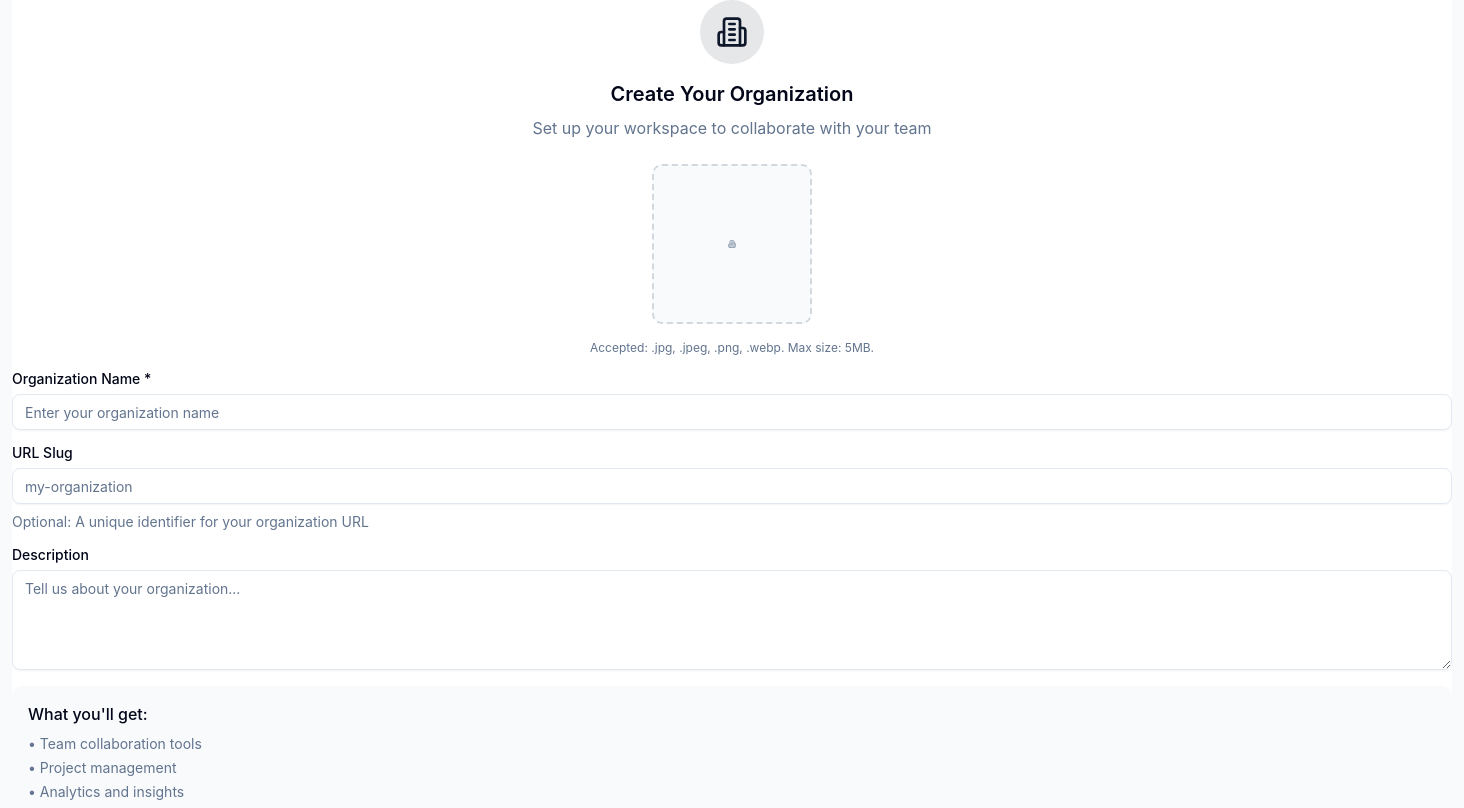
Test case: OnboardingOrganization › auto-generates slug from organization name
In the field labelled "Organization Name *": (732, 412) left=12, top=394, right=1452, bottom=430, type "My Test Organization"
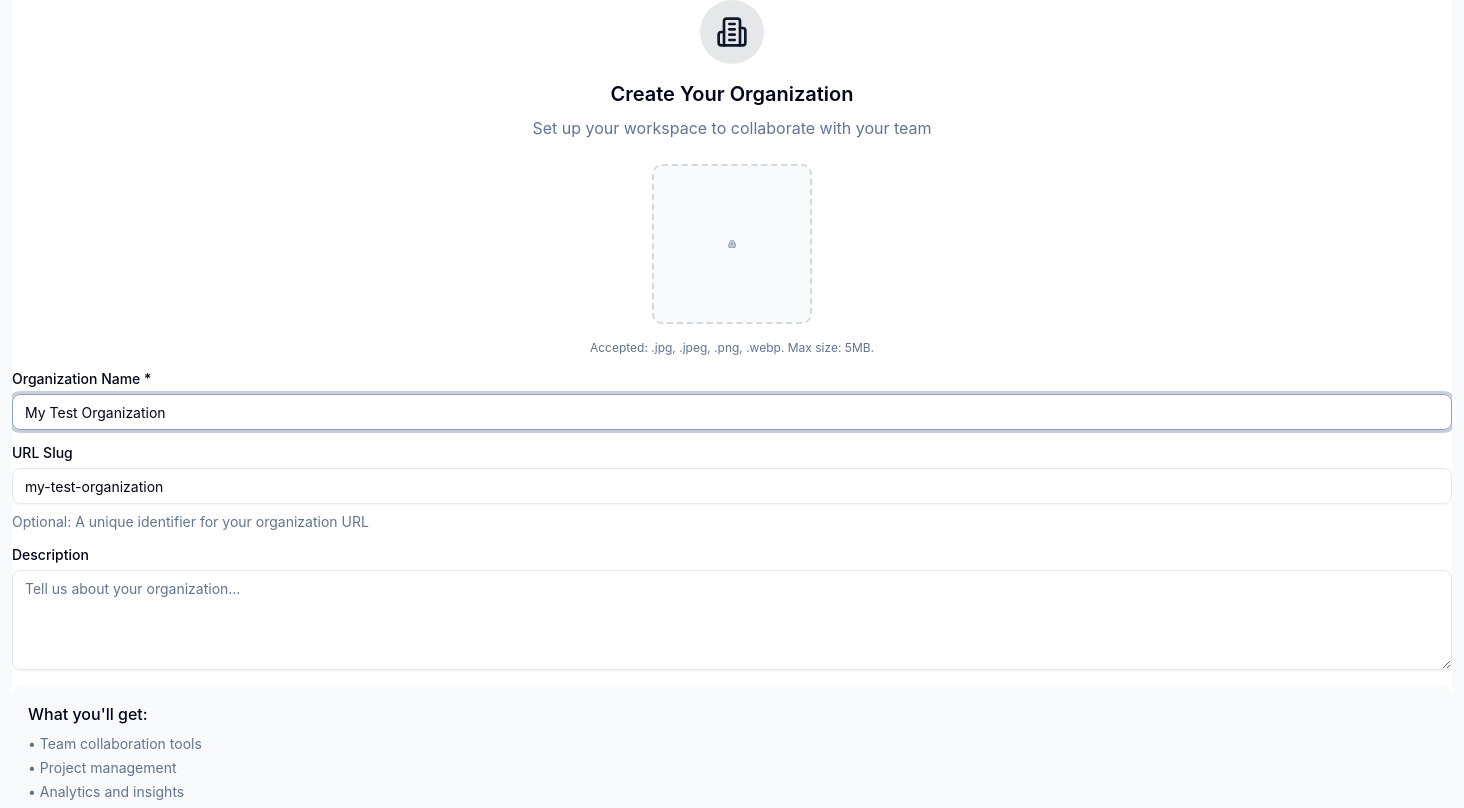
Expected: the field labelled "URL Slug" holds "my-test-organization", left=12, top=468, right=1452, bottom=504
